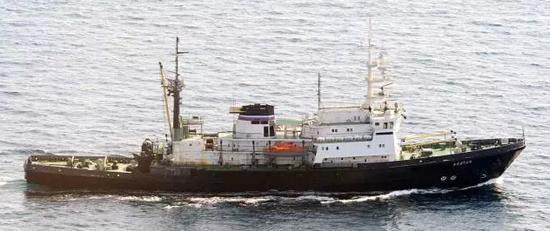otherboat: (22, 24, 528, 199)
